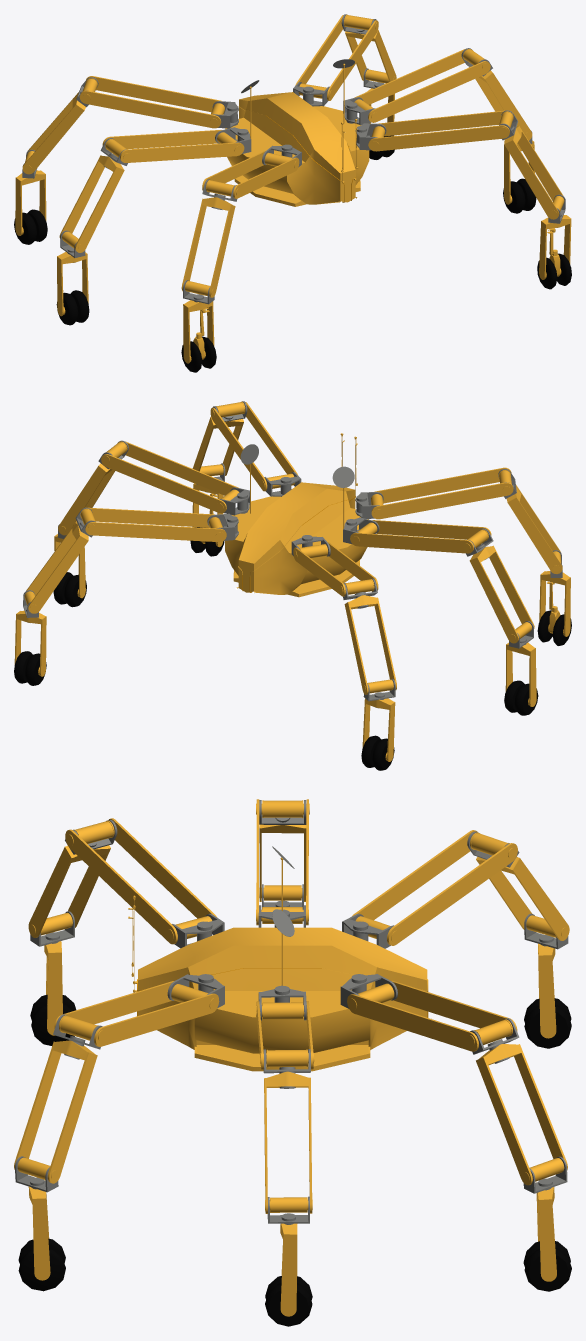
File: Athlete_Rover_Prop.glb
3 renders of one model, top to bottom at view 1: azimuth 30°, elevation 25°; view 2: azimuth 150°, elevation 25°; view 3: azimuth 270°, elevation 25°, orthographic. The views are drawn at different scales.
Visible parts, largest first — view 1: Athlete_Prop; view 2: Athlete_Prop; view 3: Athlete_Prop.
Part boxes in pixels (x1,y1,x2,y2): Athlete_Prop: [14, 14, 571, 372]; Athlete_Prop: [14, 401, 571, 770]; Athlete_Prop: [14, 799, 571, 1326].
Size of what is drawn, in the model's own units: 24.63 by 9.92 by 17.51.
